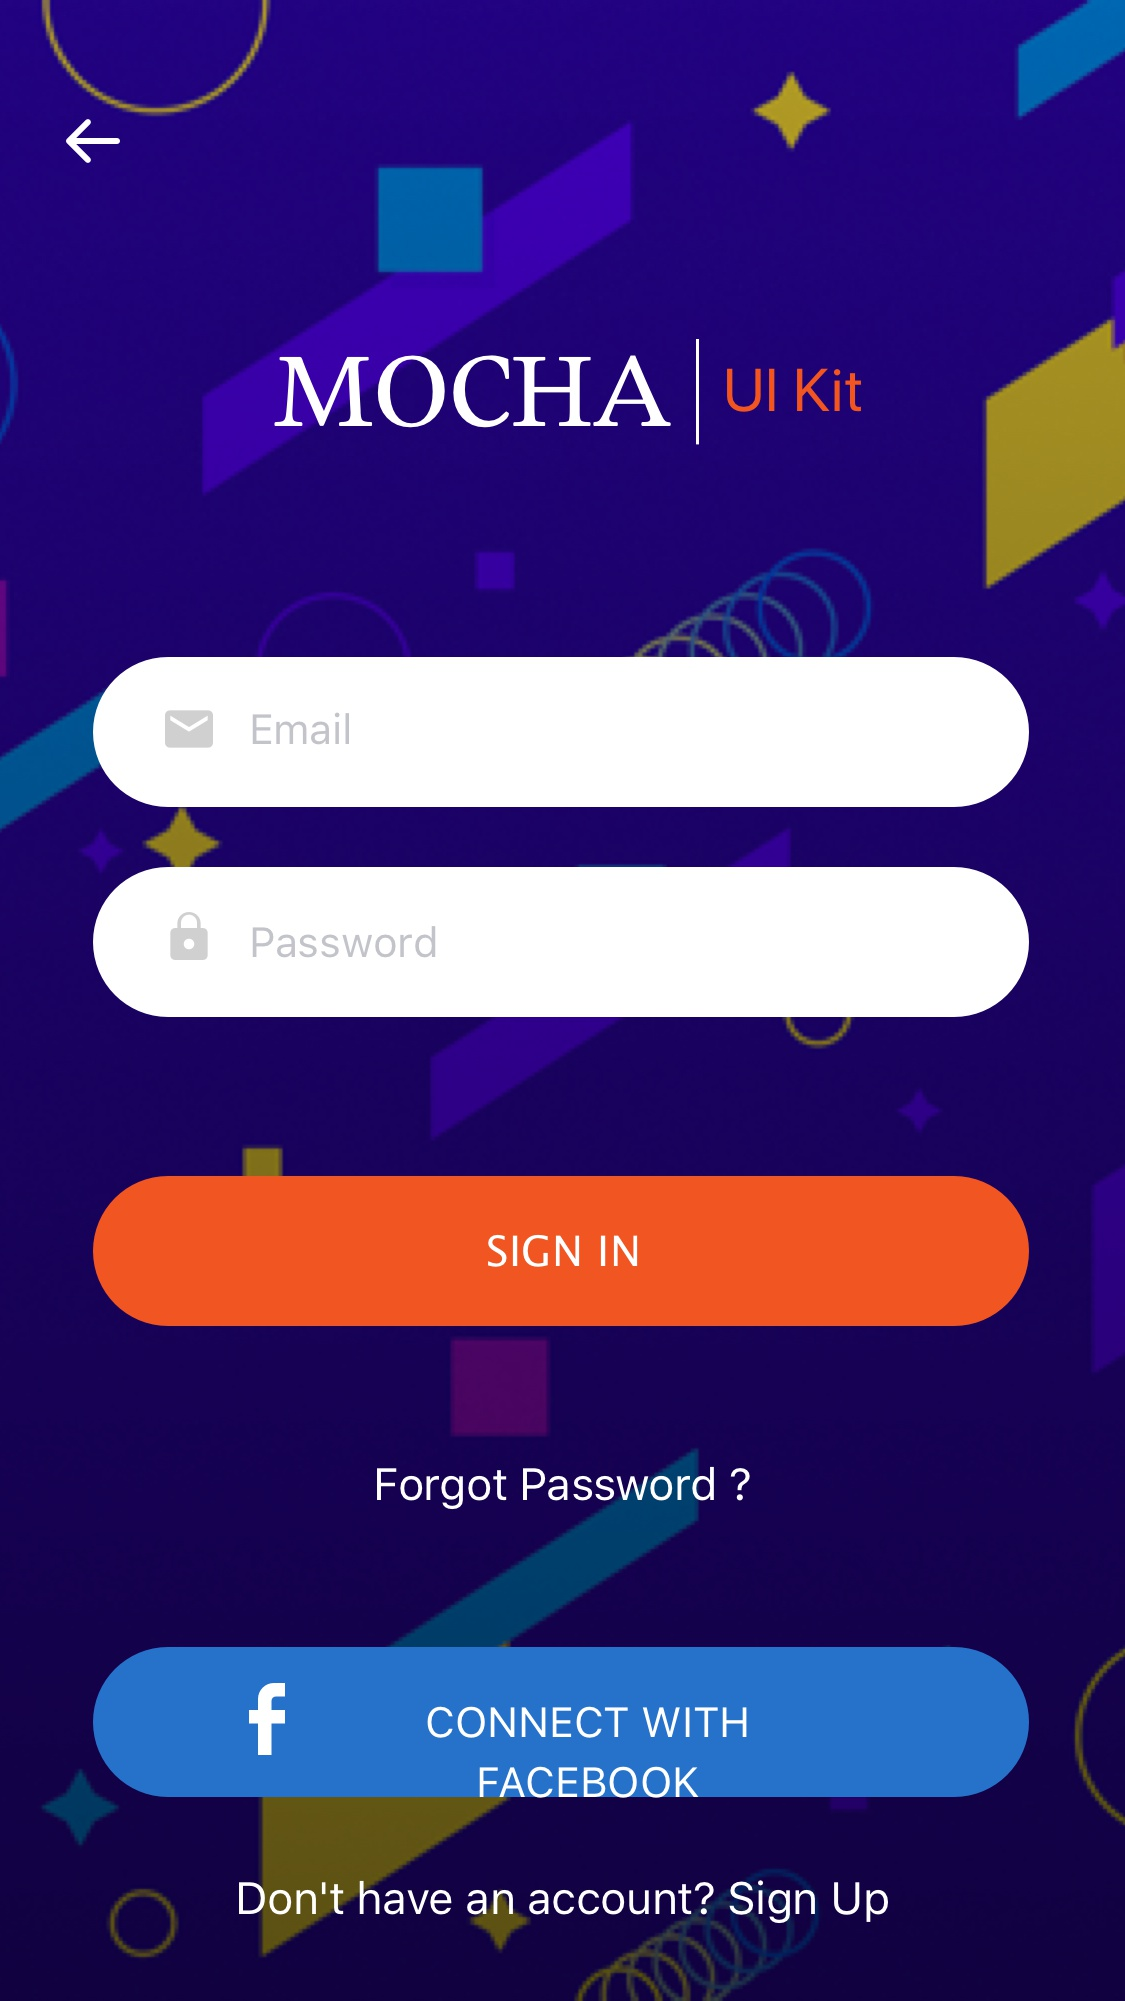BackgroundImage: (1, 1, 1125, 2001)
EditText: (93, 657, 1030, 808), (93, 867, 1030, 1018)
Icon: (66, 120, 122, 165), (165, 711, 214, 749), (170, 913, 209, 961)
Text: (273, 355, 672, 429), (239, 1880, 890, 1924), (376, 1466, 751, 1510), (727, 368, 863, 414), (251, 926, 435, 959), (251, 712, 350, 746)
TextButton: (93, 1175, 1032, 1328), (93, 1646, 1030, 1798)
